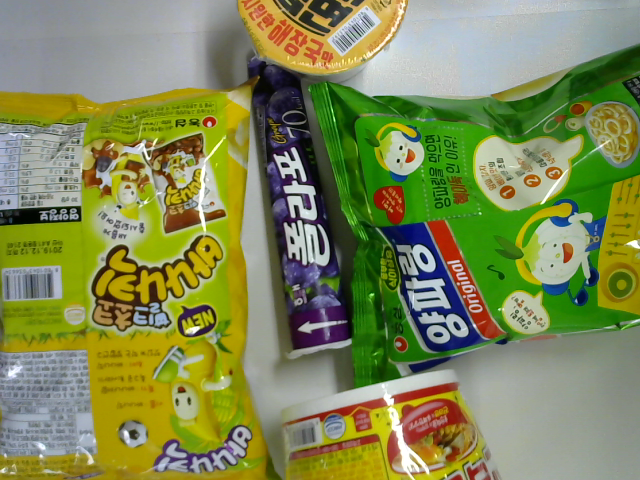Banana_Kick: (1, 80, 265, 480)
Hejangmini: (238, 1, 410, 78)
Jinlamyeon_Hot_Taste_Large_Cup: (280, 365, 504, 480)
Oninon_Ring: (306, 41, 640, 389)
Polapo_Grape: (243, 43, 355, 360)
